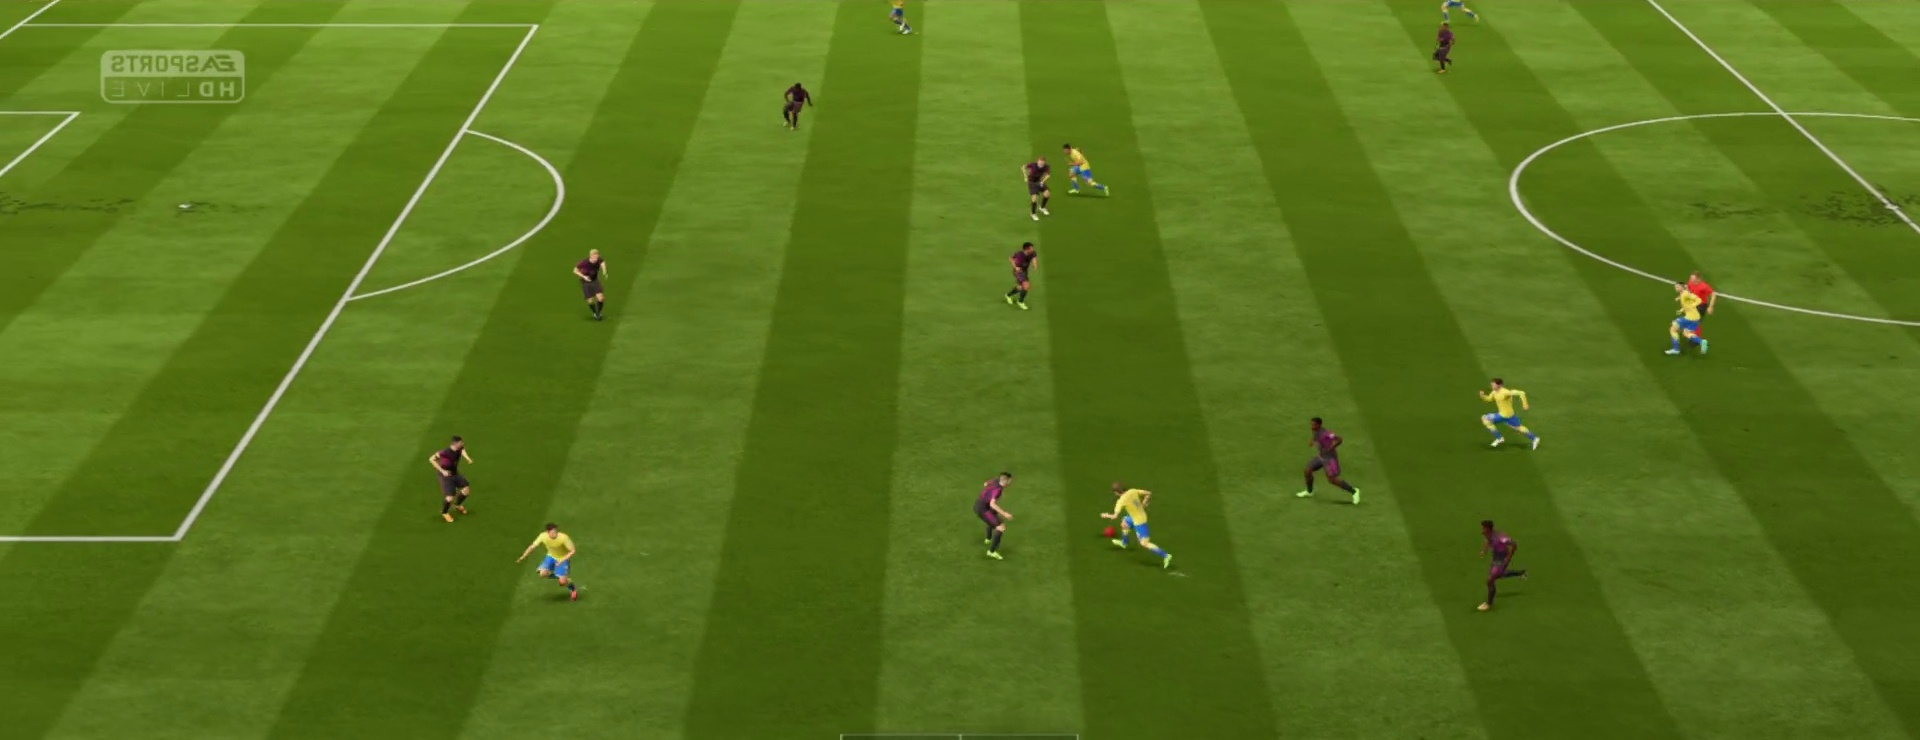person: (1101, 479, 1173, 570), (1296, 416, 1359, 505), (517, 520, 581, 600), (1474, 515, 1527, 611), (1477, 377, 1540, 449), (429, 434, 477, 522), (972, 469, 1018, 561), (1664, 282, 1708, 356), (1061, 138, 1112, 197), (572, 246, 610, 320), (1004, 241, 1039, 311), (1022, 154, 1055, 220), (1686, 266, 1717, 336), (779, 82, 816, 131), (1431, 22, 1454, 75), (886, 1, 914, 36), (1441, 1, 1480, 25), (1101, 524, 1117, 539)
